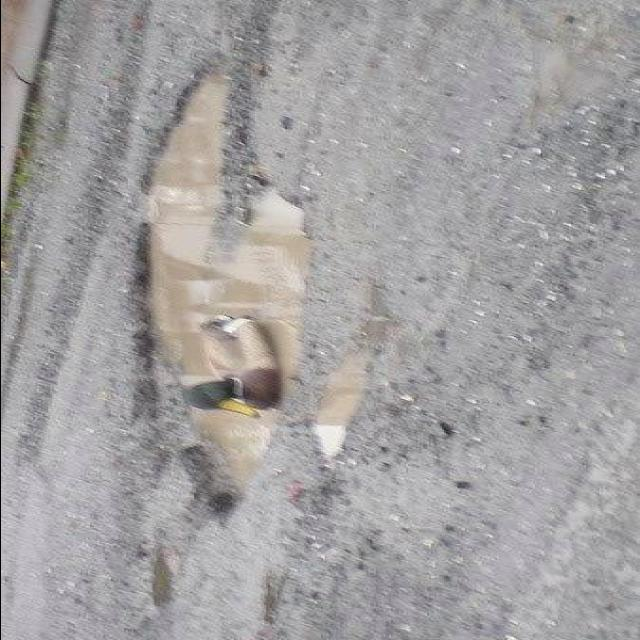lubang: (123, 86, 316, 516), (306, 337, 381, 463), (127, 528, 188, 616), (244, 564, 298, 626)
